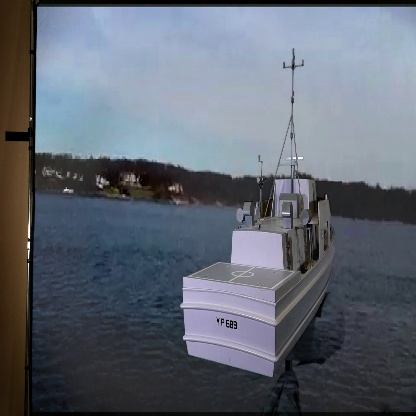YP689: (183, 51, 337, 377)
